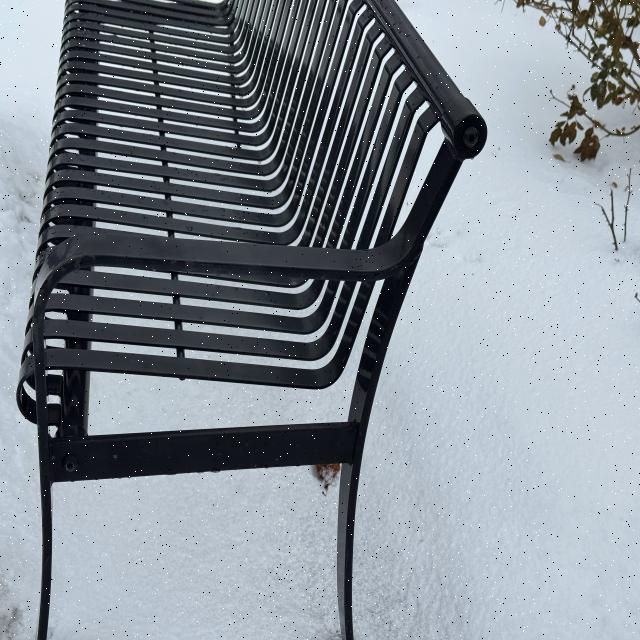Bench: (18, 0, 487, 640)
